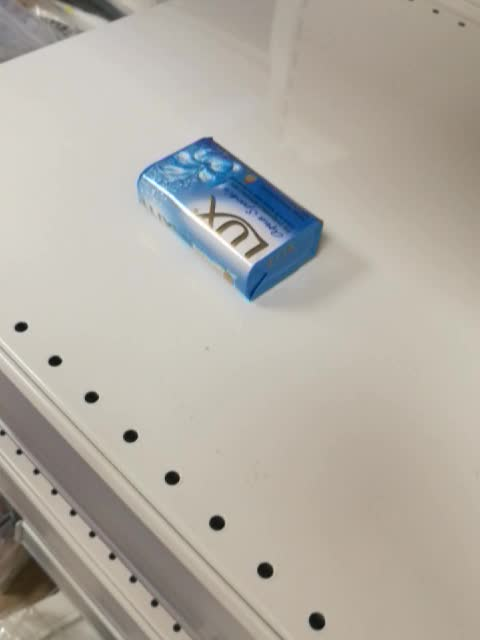soap: (136, 136, 325, 305)
